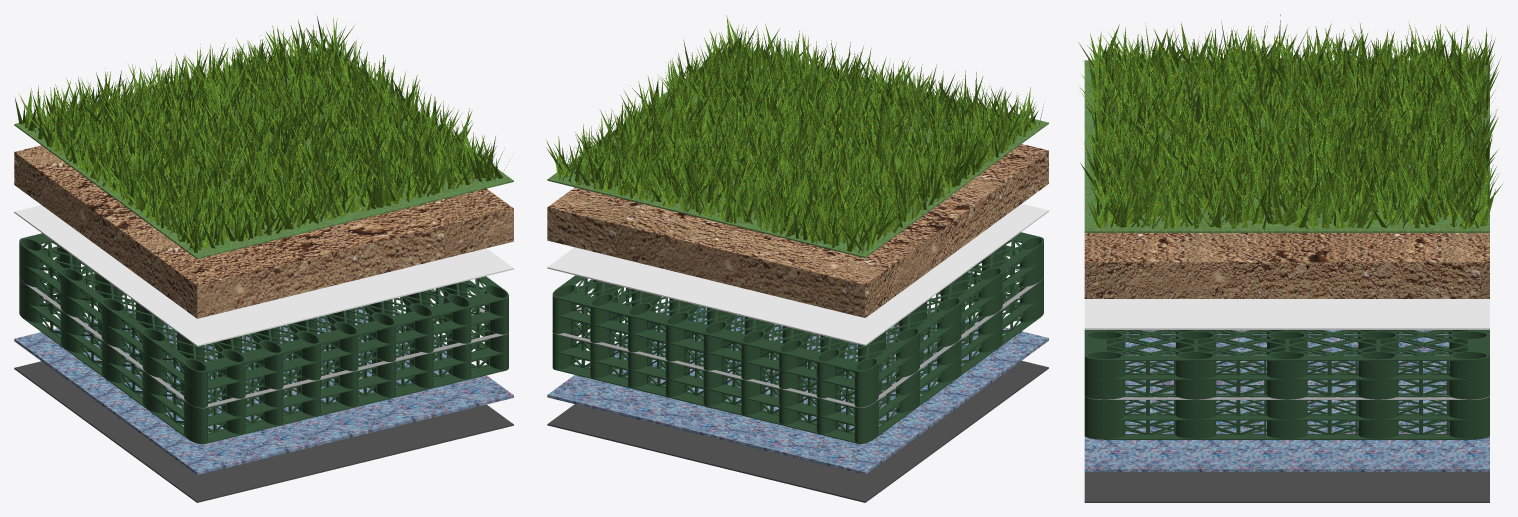
The model's file is F1-update.glb.
3 views of the same model, side by side, from view 1: azimuth 30°, elevation 25°; view 2: azimuth 150°, elevation 25°; view 3: azimuth 270°, elevation 25° (orthographic). The views are drawn at different scales.
Visible parts, largest first — view 1: G-Object.005, G-Object.002, G-Object.003, G-Object.004, G-Object.019, G-Object.001, G-Object.023, G-Object.024, G-Object.020, G-Object.021, G-Object.027, C-Component#1.028 (+26 smaller); view 2: G-Object.005, G-Object.002, G-Object.003, G-Object.004, G-Object.019, G-Object.001, G-Object.023, G-Object.025, G-Object.013, G-Object.021, G-Object.027, G-Object.015 (+26 smaller); view 3: G-Object.005, G-Object.002, G-Object.003, G-Object.004, G-Object.023, G-Object.001, G-Object.019, G-Object.032, G-Object.009, C-Component#1, C-Component#1.002, C-Component#1.020 (+17 smaller).
Boxes of the visible parts, x1,y1,x2,y2 form: G-Object.005: (14, 145, 513, 318); G-Object.002: (14, 306, 513, 474); G-Object.003: (14, 205, 513, 346); G-Object.004: (14, 361, 513, 502); G-Object.019: (20, 233, 508, 372); G-Object.001: (14, 47, 513, 259); G-Object.023: (22, 293, 506, 443); G-Object.024: (205, 330, 505, 434); G-Object.020: (205, 303, 505, 398); G-Object.021: (19, 270, 507, 408); G-Object.027: (22, 287, 190, 423); C-Component#1.028: (184, 358, 207, 407); G-Object.005: (547, 144, 1048, 317); G-Object.002: (547, 306, 1048, 474); G-Object.003: (547, 204, 1048, 345); G-Object.004: (547, 360, 1048, 502); G-Object.019: (552, 232, 1041, 371); G-Object.001: (547, 47, 1048, 258); G-Object.023: (555, 292, 1041, 443); G-Object.025: (556, 330, 856, 434); G-Object.013: (556, 302, 857, 398); G-Object.021: (552, 267, 1042, 407); G-Object.027: (873, 298, 1041, 427); G-Object.015: (873, 261, 1041, 392); G-Object.005: (1084, 233, 1489, 298); G-Object.002: (1084, 330, 1489, 471); G-Object.003: (1084, 299, 1489, 329); G-Object.004: (1084, 472, 1489, 502); G-Object.023: (1103, 330, 1478, 439); G-Object.001: (1084, 60, 1489, 232); G-Object.019: (1084, 330, 1489, 360); G-Object.032: (1100, 396, 1471, 434); G-Object.009: (1100, 355, 1471, 395); C-Component#1: (1084, 351, 1125, 399); C-Component#1.002: (1449, 351, 1489, 399); C-Component#1.020: (1358, 351, 1398, 399).
Bounding box in the file's own units: 0.5412 × 0.4328 × 0.5269.
8 materials, 4 textured.
